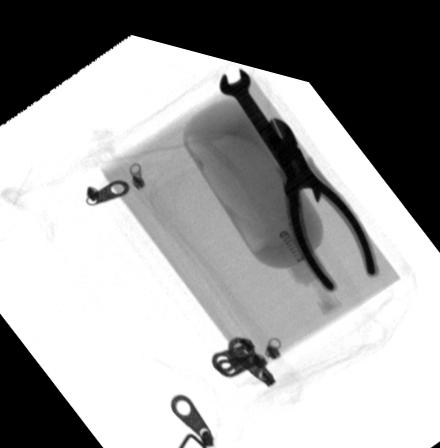Pliers: (264, 101, 380, 275)
Wrench: (218, 52, 321, 194)
